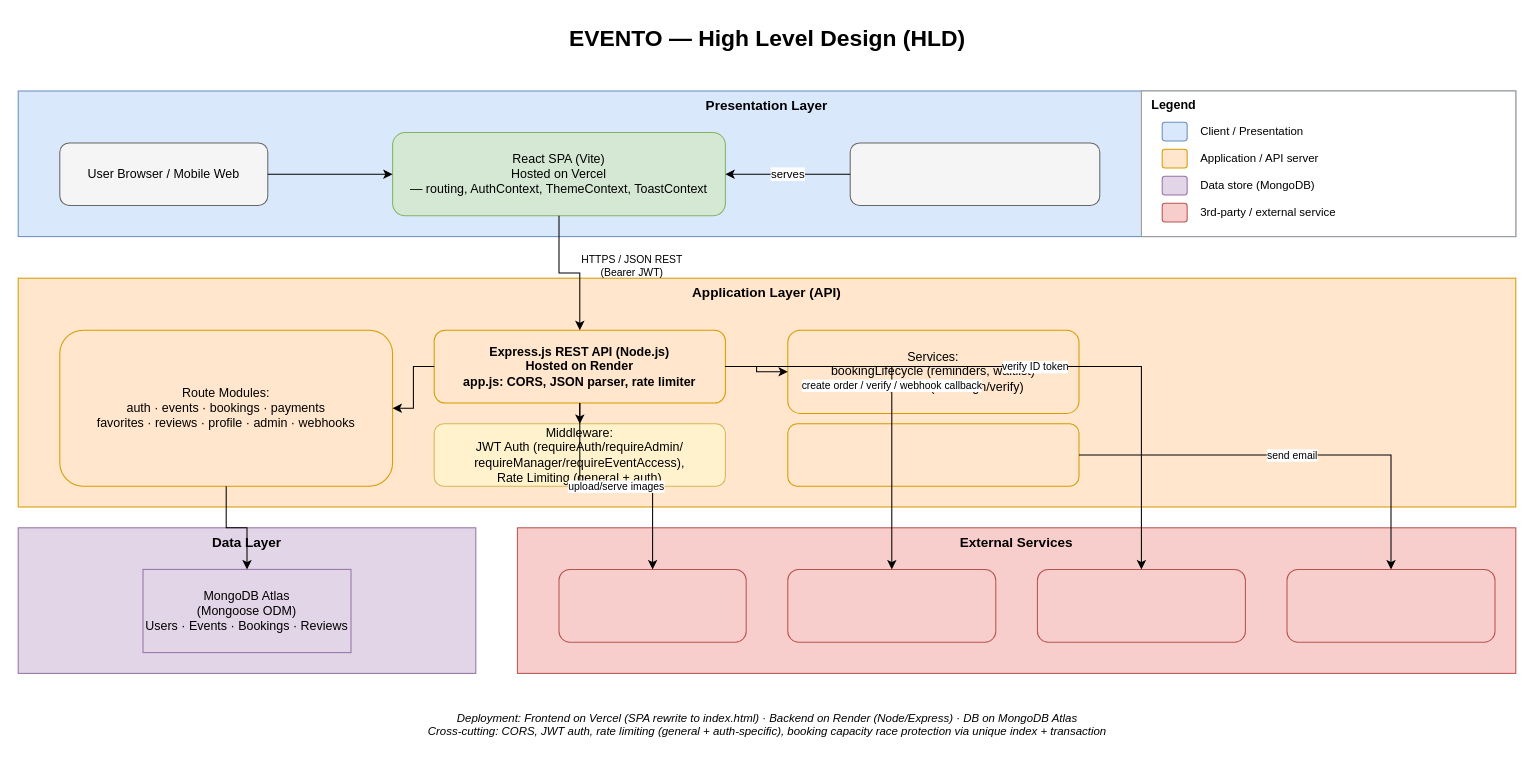
The diagram is 1534 pixels wide and 774 high, and some of its shapes have lost their labels. Here are the shapes that lost their labels. From the top down, the centre of each, then its label:
the point at 974,173: Static Asset Delivery (Vercel Edge / SPA rewrite → index.html)
the point at 933,454: Mailer (Nodemailer wrapper)
the point at 652,605: Cloudinary (image storage/CDN)
the point at 891,605: Razorpay (payment gateway + webhook)
the point at 1140,605: Google OAuth 2.0 (identity verification)
the point at 1390,605: SMTP Provider (password reset / reminder emails)
